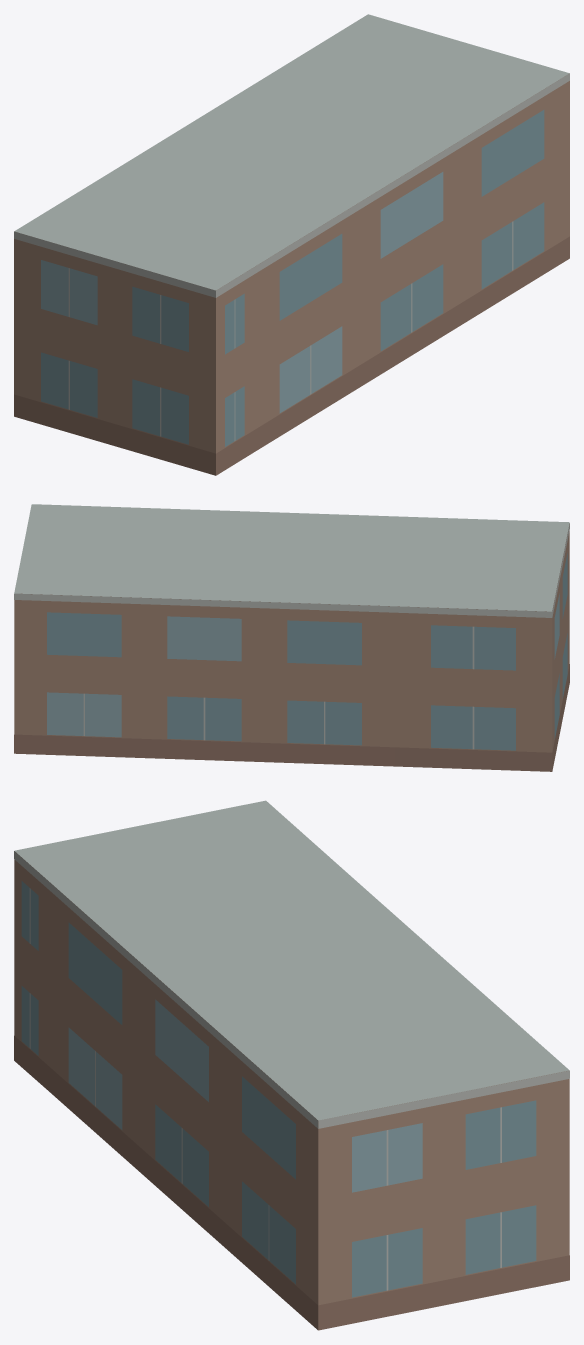
The model's file is survey-upis-32705142.glb.
3 renders of one model, top to bottom at view 1: azimuth 30°, elevation 25°; view 2: azimuth 150°, elevation 25°; view 3: azimuth 270°, elevation 25°, orthographic. The views are drawn at different scales.
Visible parts, largest first — view 1: survey-upis-32705142.tmp; view 2: survey-upis-32705142.tmp; view 3: survey-upis-32705142.tmp.
Boxes of the visible parts, bbox=[...] form: survey-upis-32705142.tmp: bbox=[14, 14, 569, 475]; survey-upis-32705142.tmp: bbox=[14, 504, 569, 771]; survey-upis-32705142.tmp: bbox=[14, 800, 569, 1330].
Size of the model in its own units: 19.96 by 6.1 by 14.65.
